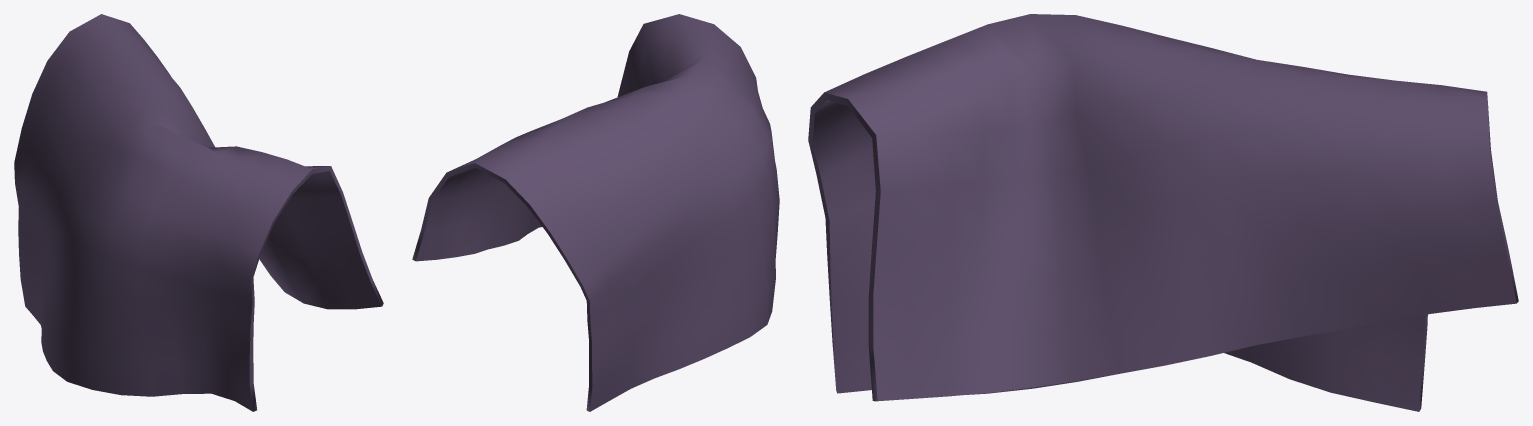
File: Trapo_Balde.fbx
3 renders of one model, left to right at view 1: azimuth 30°, elevation 25°; view 2: azimuth 150°, elevation 25°; view 3: azimuth 270°, elevation 25°, orthographic. The views are drawn at different scales.
Parts seen in each view (by area): view 1: Trapo_Balde; view 2: Trapo_Balde; view 3: Trapo_Balde.
Part boxes in pixels (x1,y1,x2,y2): Trapo_Balde: (14, 14, 383, 411); Trapo_Balde: (412, 14, 779, 411); Trapo_Balde: (808, 14, 1518, 411).
Bounding box in the file's own units: 0.1944 × 0.1991 × 0.317.
